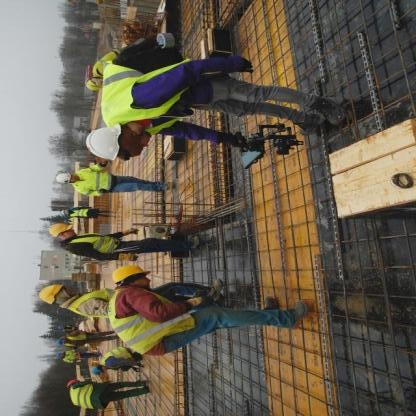blue: (87, 365, 106, 377), (53, 337, 66, 346), (55, 352, 64, 358)
vest: (96, 58, 196, 127), (107, 288, 198, 360), (64, 229, 124, 262), (63, 286, 113, 322), (72, 164, 116, 197), (89, 47, 121, 80), (67, 382, 96, 412), (98, 346, 132, 370), (70, 205, 90, 221)
white: (83, 123, 126, 163), (52, 171, 73, 188)
yellow: (108, 263, 158, 286), (34, 282, 67, 308), (46, 221, 74, 242)
